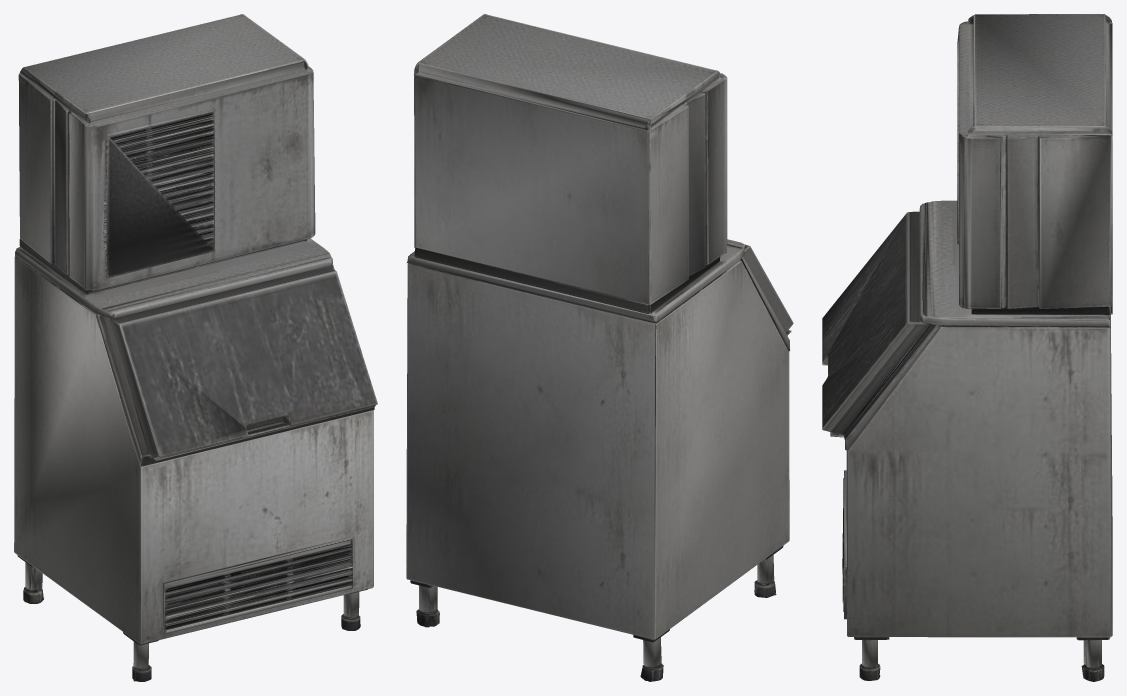
File: p7-ice-machine-t25.glb
3 views of the same model, side by side, from view 1: azimuth 30°, elevation 25°; view 2: azimuth 150°, elevation 25°; view 3: azimuth 270°, elevation 25° (orthographic). The views are drawn at different scales.
Visible parts, largest first — view 1: p7-ice-machine-t25; view 2: p7-ice-machine-t25; view 3: p7-ice-machine-t25.
Boxes of the visible parts, <box> form: p7-ice-machine-t25: <box>14,14,377,681</box>; p7-ice-machine-t25: <box>406,14,793,681</box>; p7-ice-machine-t25: <box>822,14,1112,681</box>.
Bounding box in the file's own units: 0.787 × 1.7 × 0.809.
Materials: 1 (1 with a texture image).
